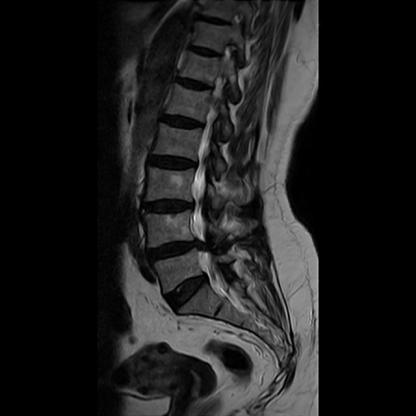Disc Bulgerotation: (143, 237, 211, 262), (138, 196, 199, 222), (142, 151, 203, 175)
